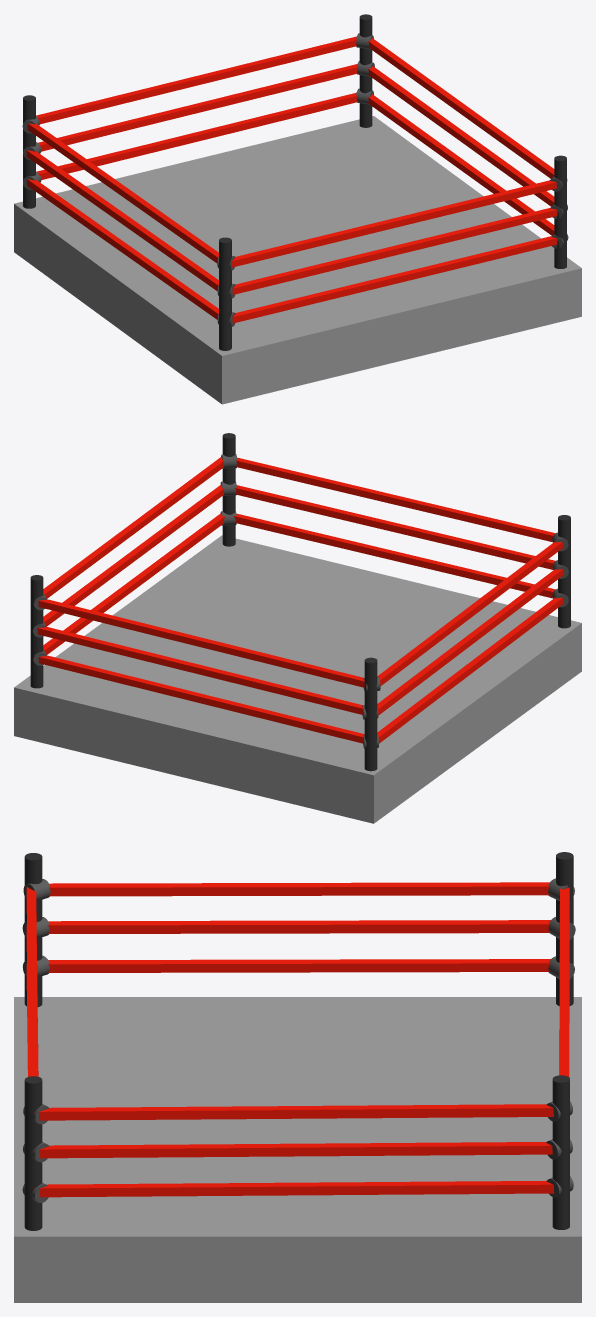
File: Boxing Ring.glb
3 renders of one model, top to bottom at view 1: azimuth 30°, elevation 25°; view 2: azimuth 150°, elevation 25°; view 3: azimuth 270°, elevation 25°, orthographic. The views are drawn at different scales.
Parts seen in each view (by area): view 1: Cube, Cube.009, Cube.007, Cube.008, Cube.005, Cube.004, Cube.006, Cube.010, Cube.012, Cube.011, Cube.014, Cube.013 (+5 smaller); view 2: Cube, Cube.005, Cube.004, Cube.006, Cube.008, Cube.007, Cube.009, Cube.010, Cube.012, Cube.011, Cube.014, Cube.013 (+5 smaller); view 3: Cube, Cube.014, Cube.015, Cube.013, Cube.011, Cube.010, Cube.012, Cylinder.007, Cylinder.001, Cube.005, Cube.008, Cylinder.003 (+1 smaller).
Part boxes in pixels (x1,y1,x2,y2): Cube: (14,116,581,404); Cube.009: (232,236,557,323); Cube.007: (232,208,557,294); Cube.008: (232,180,556,267); Cube.005: (36,36,356,124); Cube.004: (38,64,357,151); Cube.006: (36,92,357,179); Cube.010: (26,150,218,291); Cube.012: (27,179,218,319); Cube.011: (27,123,218,263); Cube.014: (368,38,554,178); Cube.013: (368,66,554,206); Cube: (14,535,581,823); Cube.005: (38,599,364,687); Cube.004: (37,626,363,714); Cube.006: (38,655,364,743); Cube.008: (236,457,555,541); Cube.007: (235,485,555,569); Cube.009: (233,513,555,598); Cube.010: (377,569,563,715); Cube.012: (377,597,563,743); Cube.011: (377,541,562,685); Cube.014: (43,457,223,598); Cube.013: (43,484,224,626); Cube: (14,997,581,1302); Cube.014: (34,1104,553,1120); Cube.015: (34,1180,554,1197); Cube.013: (39,1142,552,1158); Cube.011: (49,882,549,896); Cube.010: (48,920,550,933); Cube.012: (48,959,550,972); Cylinder.007: (24,1076,42,1230); Cylinder.001: (552,1075,569,1229); Cube.005: (559,887,569,1076); Cube.008: (26,887,38,1076); Cylinder.003: (556,852,573,1005).
Size of the model in its own units: 7.98 by 3.32 by 7.99.
